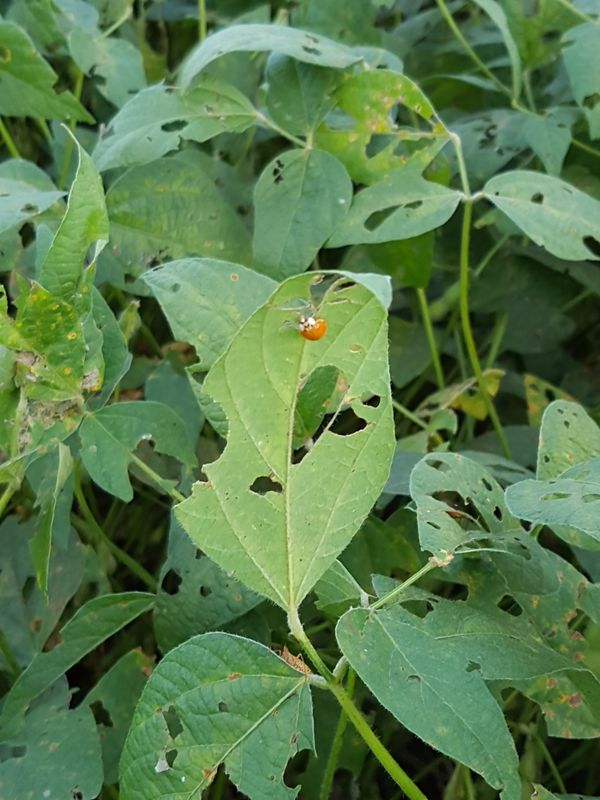Coccinellidae: (287, 304, 335, 349)
